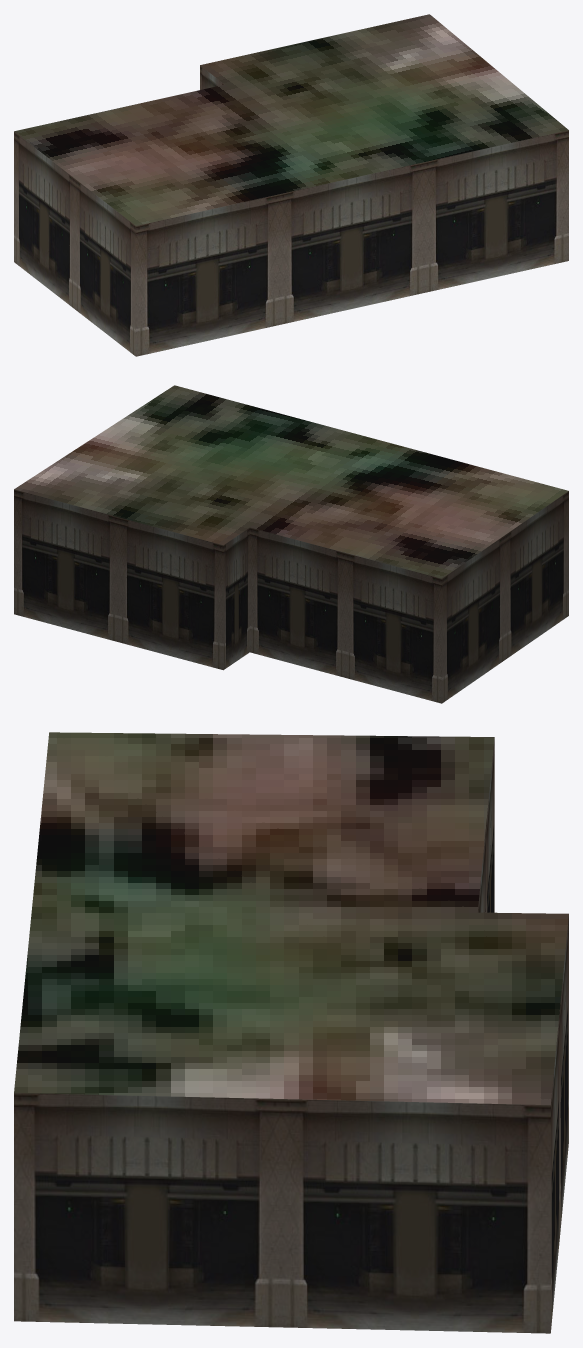
The picture shows the model from 3 angles, top to bottom: view 1: azimuth 30°, elevation 25°; view 2: azimuth 150°, elevation 25°; view 3: azimuth 270°, elevation 25°; orthographic projection. The views are drawn at different scales.
Visible parts, largest first — view 1: SketchUp (×3); view 2: SketchUp (×5); view 3: SketchUp (×4).
Boxes of the visible parts, x1,y1,x2,y2 form: SketchUp (×3): (14, 14, 568, 356); SketchUp (×5): (14, 385, 568, 703); SketchUp (×4): (14, 732, 568, 1333).
Bounding box in the file's own units: 15.75 × 9.91 × 4.5.
Materials: 2 (2 with a texture image).
